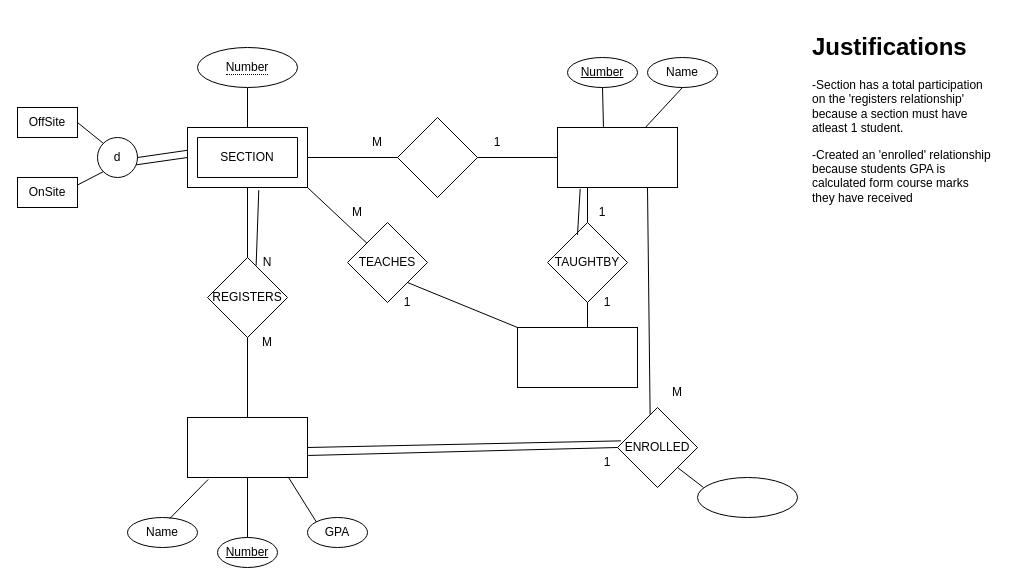
Image size: 1015x585. Some labels were removed from this diagram. Here are the shapes that lost their labels. From the top down, the centre of each, then its label:
At pixel 437 157: "OFFERS".
At pixel 617 157: "COURSE".
At pixel 577 357: "PROFESSOR".
At pixel 247 447: "STUDENT".
At pixel 747 497: "Mark".
